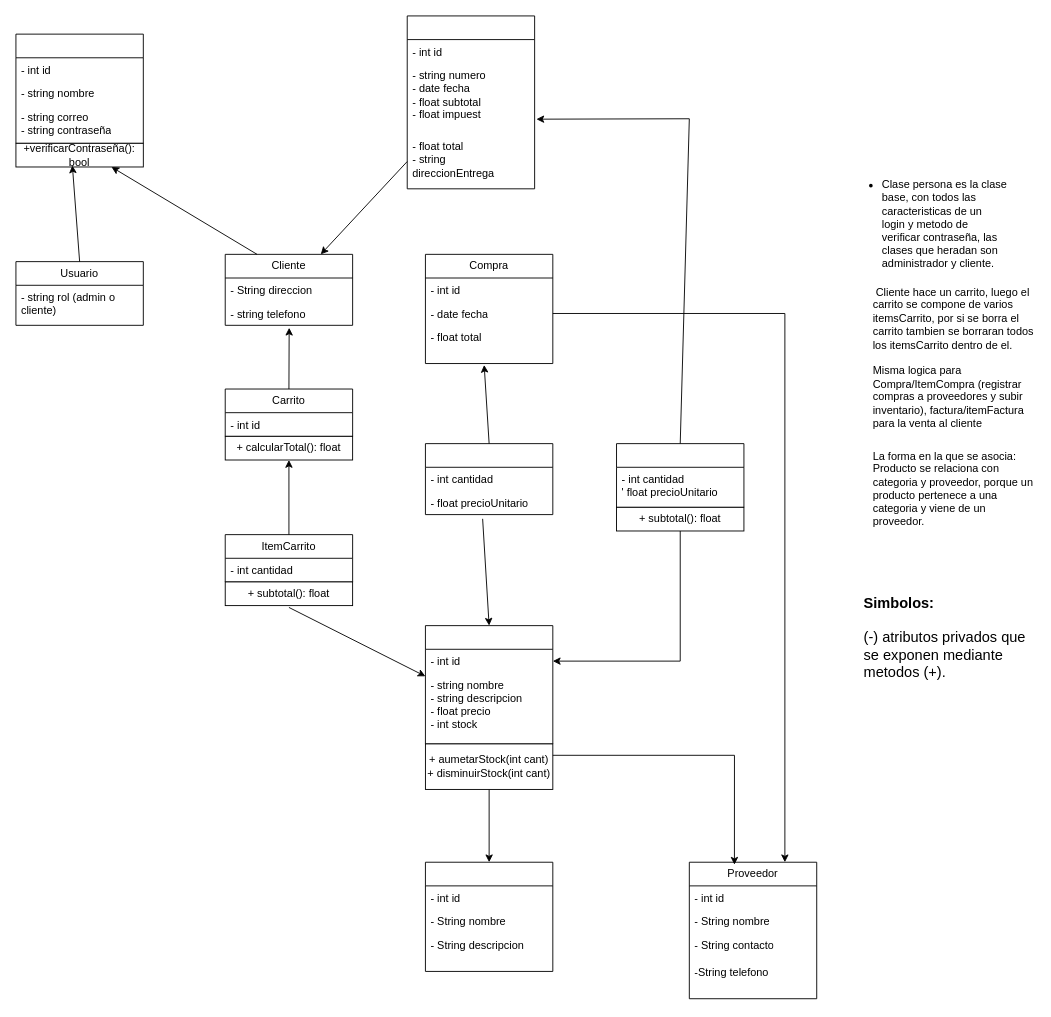
The diagram is 1051 pixels wide and 1017 high, and some of its shapes have lost their labels. Each missing label, with the box of its shape:
Categoria: (425, 861, 553, 971)
Factura: (406, 15, 535, 189)
ItemCompra: (425, 443, 553, 515)
ItemFactura: (616, 443, 744, 507)
Persona: (15, 33, 143, 143)
Producto: (425, 625, 553, 744)
